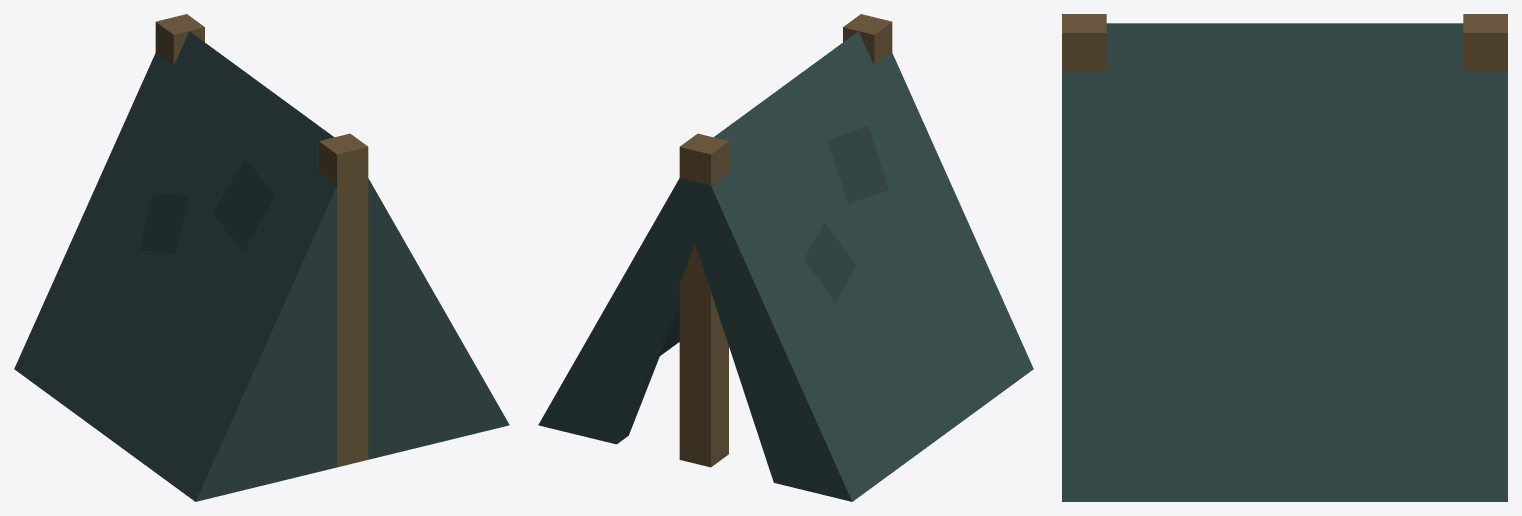
The model's file is Tent_Poles_01.obj.
The picture shows the model from 3 angles, left to right: view 1: azimuth 30°, elevation 25°; view 2: azimuth 150°, elevation 25°; view 3: azimuth 270°, elevation 25°; orthographic projection. The views are drawn at different scales.
Parts seen in each view (by area): view 1: Mesh1_Tent_Poles_Model; view 2: Mesh1_Tent_Poles_Model; view 3: Mesh1_Tent_Poles_Model.
Part boxes in pixels (left/top/right/bottom): Mesh1_Tent_Poles_Model: left=14, top=14, right=509, bottom=501; Mesh1_Tent_Poles_Model: left=538, top=14, right=1033, bottom=501; Mesh1_Tent_Poles_Model: left=1062, top=14, right=1507, bottom=501.
Bounding box in the file's own units: 3 × 2.86 × 3.
